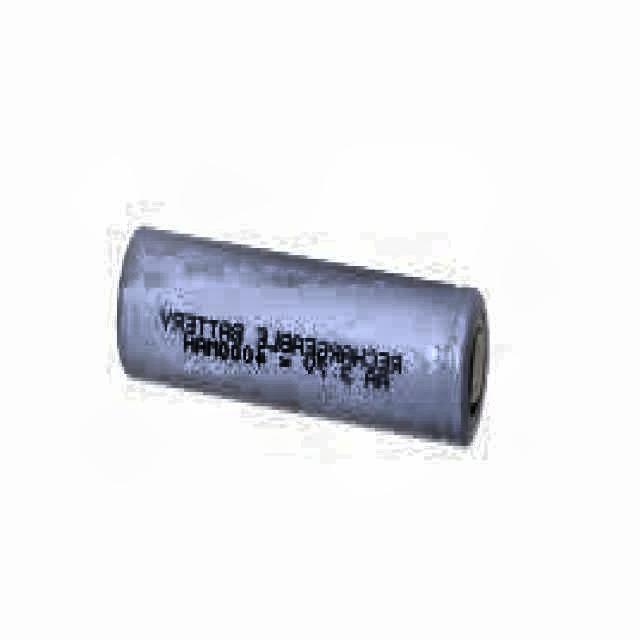battery: (119, 227, 489, 442)
